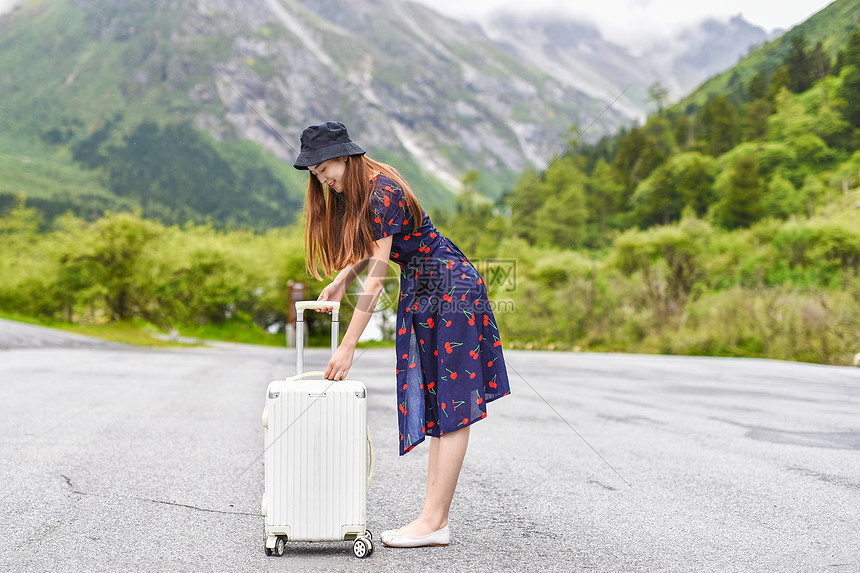box: (266, 381, 368, 540)
handle: (286, 372, 347, 381), (366, 423, 374, 491)
wheel: (352, 536, 375, 557), (263, 536, 285, 557)
